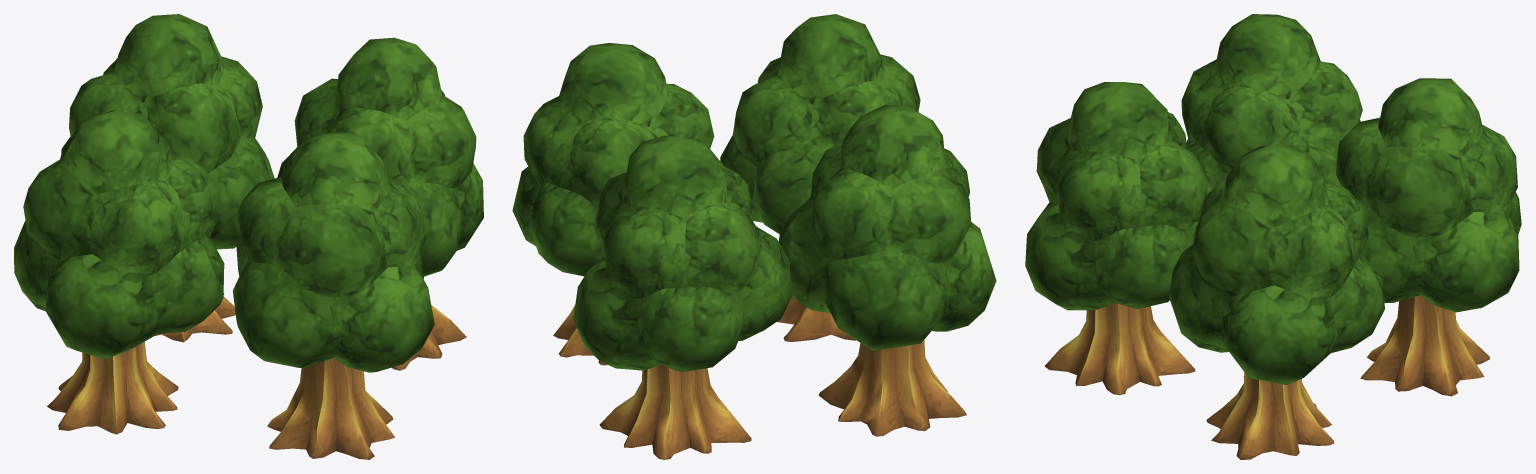
The model's file is tree4_HD.fbx.
3 renders of one model, left to right at view 1: azimuth 30°, elevation 25°; view 2: azimuth 150°, elevation 25°; view 3: azimuth 270°, elevation 25°, orthographic. The views are drawn at different scales.
Parts seen in each view (by area): view 1: tree4; view 2: tree4; view 3: tree4.
Boxes of the visible parts, x1,y1,x2,y2 form: tree4: (14,14,483,459); tree4: (512,14,996,459); tree4: (1025,14,1521,459).
Size of the model in its own units: 3.23 by 2.05 by 3.24.
